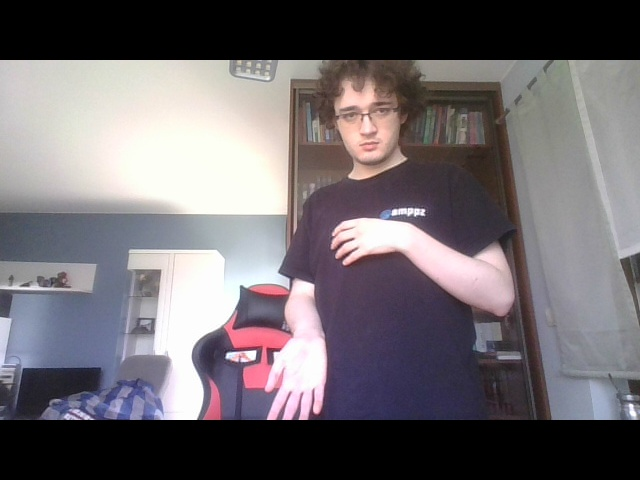hand: (262, 334, 332, 421), (328, 213, 413, 273)
